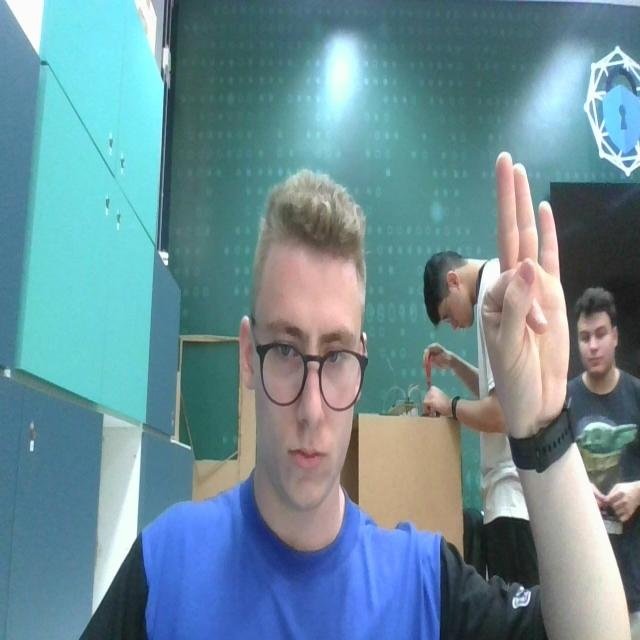F: (475, 148, 573, 428)
